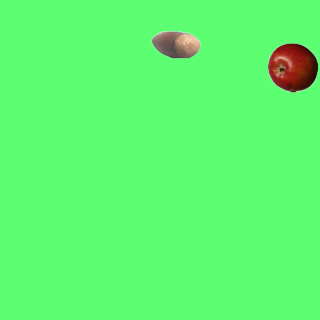Apple Braeburn: (267, 42, 317, 92)
Hazelnut: (150, 19, 200, 69)
